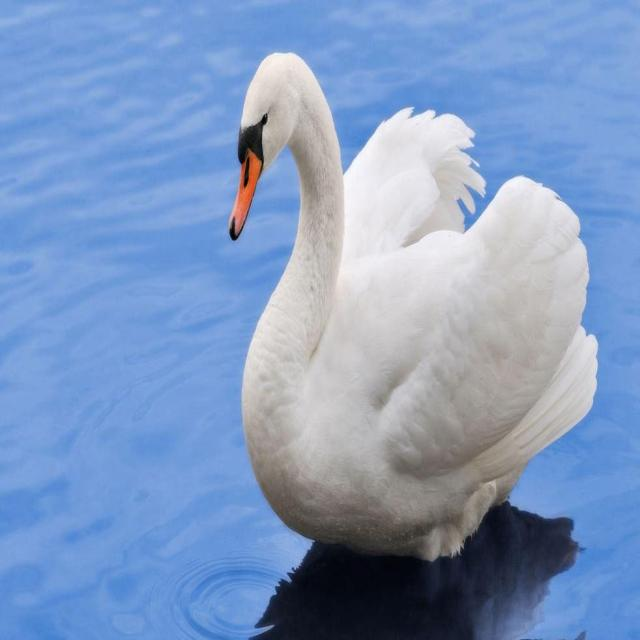swan: (229, 53, 596, 560)
